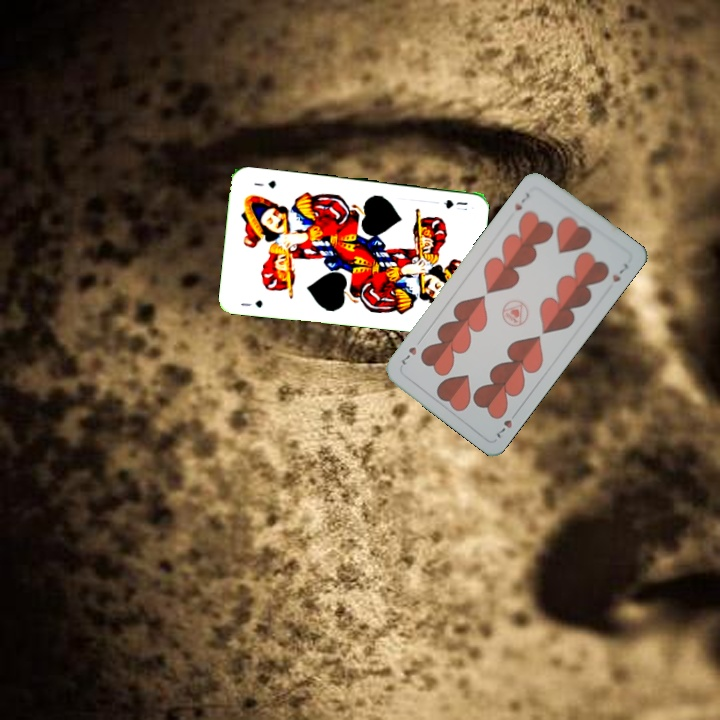GU: (439, 196, 470, 210), (236, 296, 265, 310)
H7: (492, 407, 521, 441), (510, 188, 532, 213)
